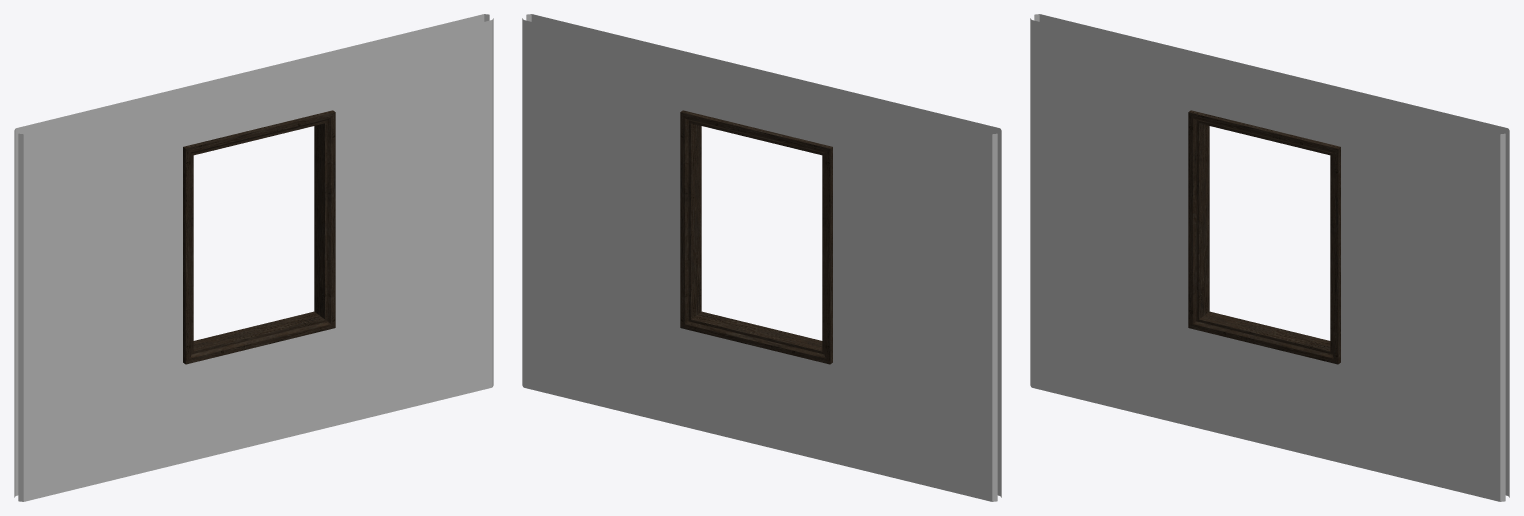
Rendered from window_1_single_frame_only.fbx.
3 views of the same model, side by side, from view 1: azimuth 30°, elevation 25°; view 2: azimuth 150°, elevation 25°; view 3: azimuth 330°, elevation 25° (orthographic).
Visible parts, largest first — view 1: window_1_single_frame_only; view 2: window_1_single_frame_only; view 3: window_1_single_frame_only.
Boxes of the visible parts, left/top/right/bottom form: window_1_single_frame_only: left=14, top=14, right=493, bottom=501; window_1_single_frame_only: left=522, top=14, right=1001, bottom=501; window_1_single_frame_only: left=1030, top=14, right=1509, bottom=501.
Size of the model in its own units: 4.06 by 3 by 0.2.
